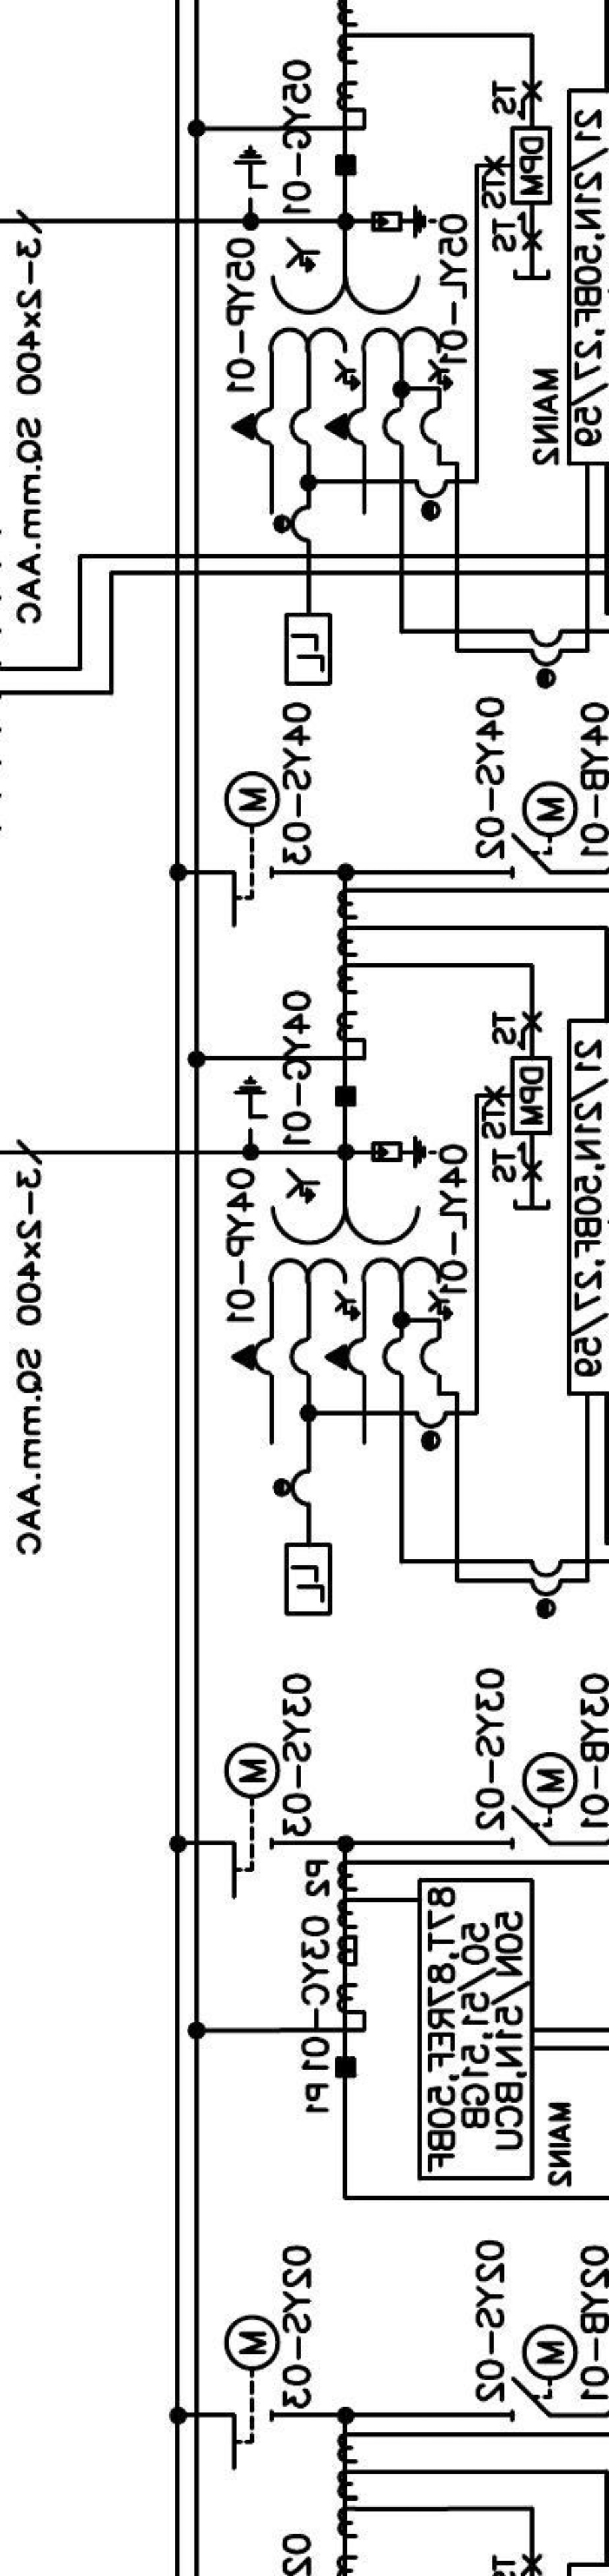115_1way_ds_w_motor: (223, 2311, 282, 2472), (223, 1740, 281, 1901), (225, 769, 282, 928), (509, 2321, 579, 2423), (509, 1751, 579, 1851), (509, 779, 579, 879)
115_gs: (231, 143, 269, 204), (231, 1073, 269, 1134)
115_la: (371, 202, 438, 240), (371, 1134, 438, 1170)
115_vt_3p: (230, 235, 455, 447), (230, 1166, 455, 1377)
DPM: (511, 123, 553, 204), (511, 1055, 553, 1135)
LL: (284, 1541, 333, 1617), (284, 611, 333, 685)
